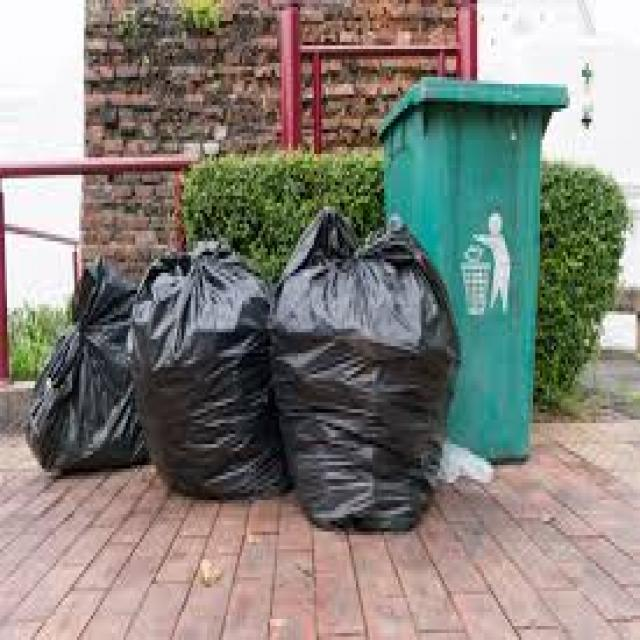plastic_bag: (283, 214, 460, 512), (150, 249, 276, 480), (31, 319, 136, 466)
